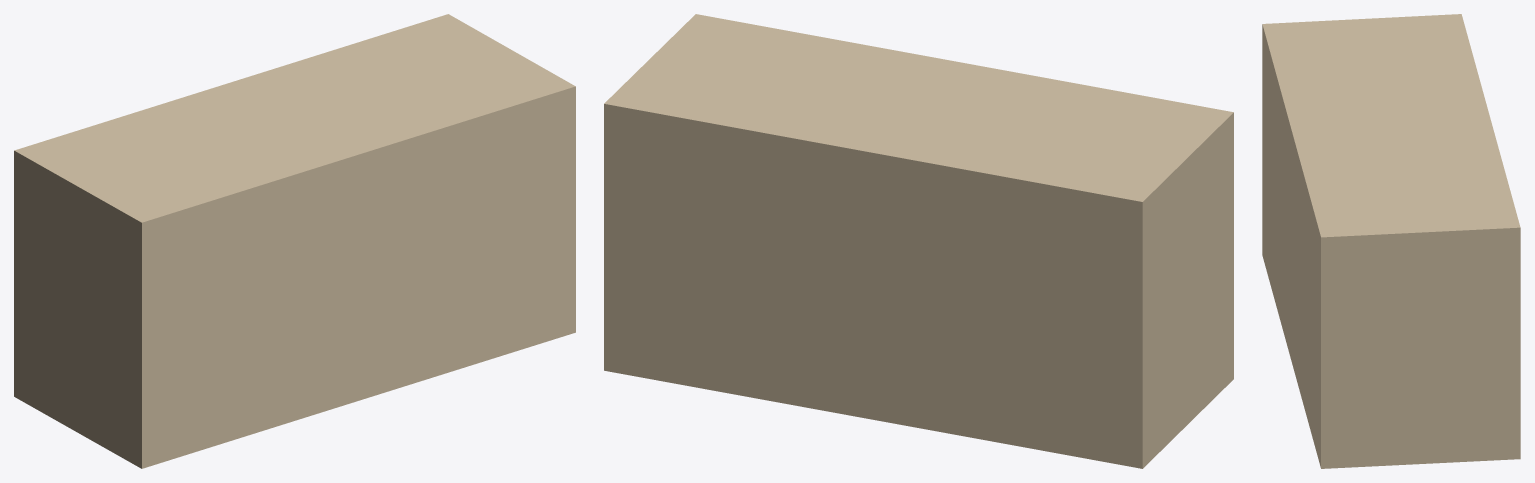
Rendered from overview-estimated--7_0.glb.
3 views of the same model, side by side, from view 1: azimuth 30°, elevation 25°; view 2: azimuth 150°, elevation 25°; view 3: azimuth 270°, elevation 25° (orthographic). The views are drawn at different scales.
Size of the model in its own units: 24.84 by 12 by 12.13.
